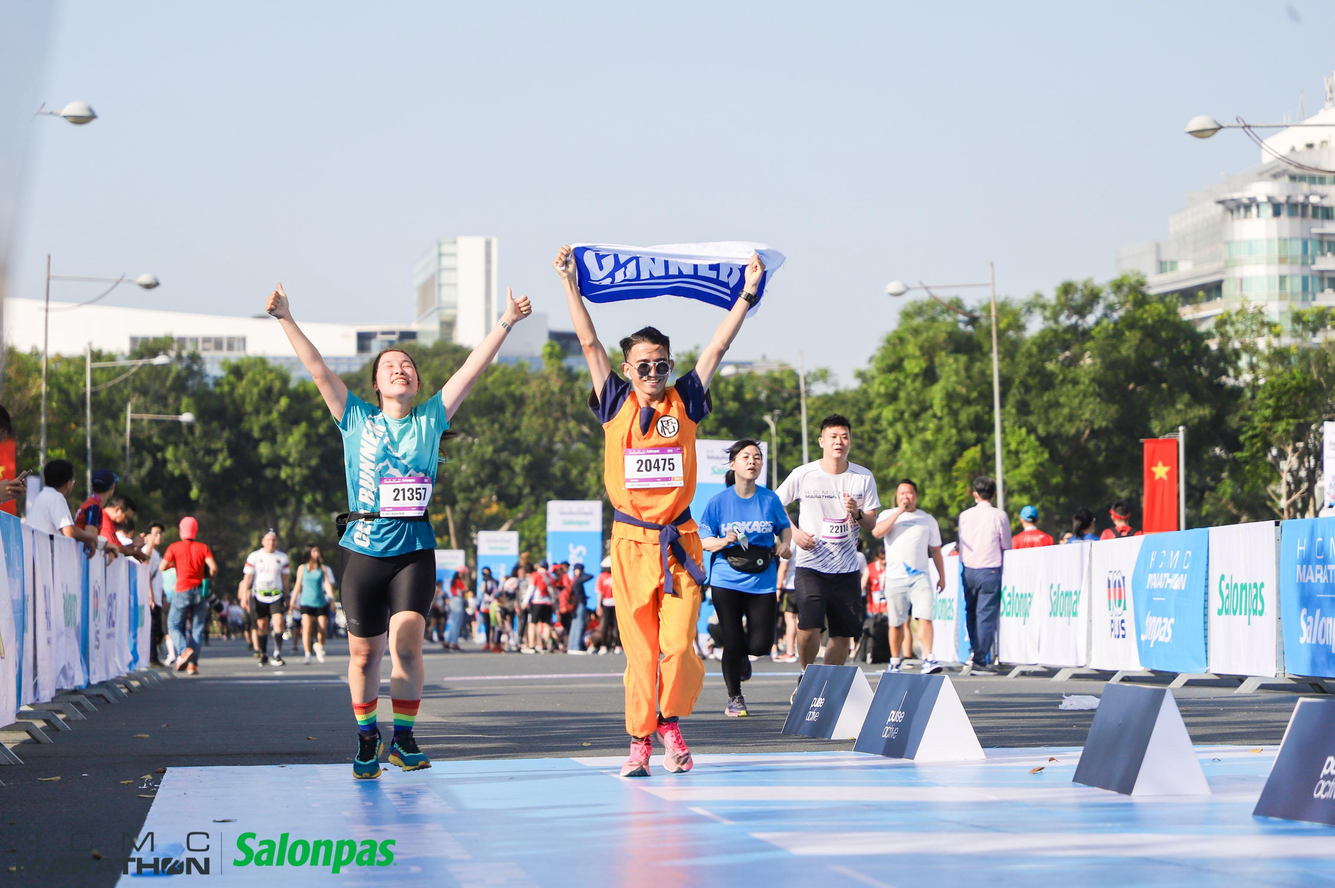bib: (624, 444, 683, 488), (380, 476, 431, 520), (823, 519, 855, 539)
